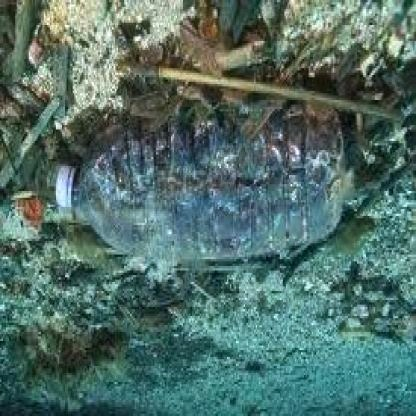pbottle: (44, 102, 349, 273)
